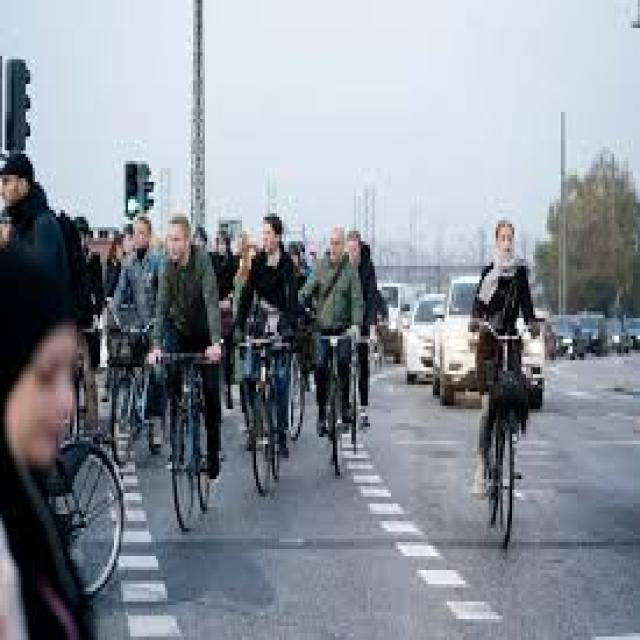moderate_traffic: (77, 175, 640, 626)
